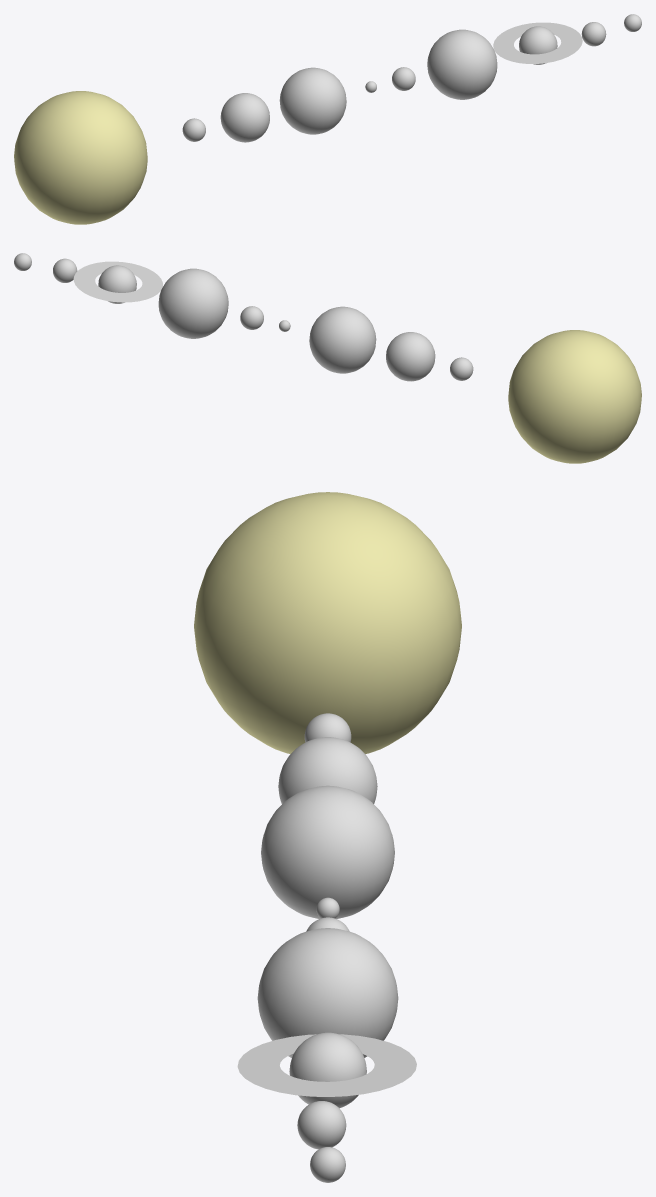
3 renders of one model, top to bottom at view 1: azimuth 30°, elevation 25°; view 2: azimuth 150°, elevation 25°; view 3: azimuth 270°, elevation 25°, orthographic. The views are drawn at different scales.
Visible parts, largest first — view 1: Sun, Jupiter, Planet, Circle, Venus, Saturn, Uranus, Mars, Mercury; view 2: Sun, Jupiter, Planet, Circle, Venus, Saturn, Uranus, Mars, Mercury; view 3: Sun, Planet, Jupiter, Circle, Venus, Saturn, Uranus, Neptune, Mercury.
Part boxes in pixels (x1,y1,x2,y2): Sun: (14, 91, 147, 224); Jupiter: (427, 29, 497, 99); Planet: (279, 67, 346, 134); Circle: (493, 22, 582, 63); Venus: (220, 93, 269, 142); Saturn: (519, 26, 557, 64); Uranus: (581, 22, 606, 46); Mars: (392, 67, 415, 90); Mercury: (182, 118, 205, 141); Sun: (508, 330, 641, 463); Jupiter: (158, 268, 228, 338); Planet: (309, 306, 376, 373); Circle: (73, 261, 162, 302); Venus: (386, 332, 435, 381); Saturn: (98, 265, 136, 303); Uranus: (53, 258, 77, 282); Mars: (240, 306, 263, 329); Mercury: (450, 357, 473, 380); Sun: (194, 492, 461, 753); Planet: (261, 785, 394, 918); Jupiter: (257, 928, 398, 1057); Circle: (237, 1034, 416, 1096); Venus: (278, 737, 377, 803); Saturn: (289, 1032, 366, 1108); Uranus: (297, 1101, 346, 1149); Neptune: (310, 1147, 345, 1182); Mercury: (304, 713, 351, 742).
Bounding box in the file's own units: 21.28 × 4 × 4.
